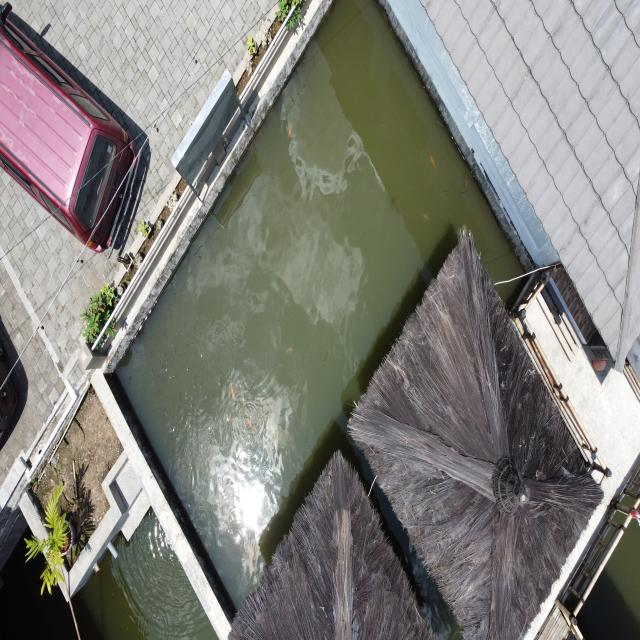Ponds: (100, 3, 547, 640), (1, 487, 227, 639)
